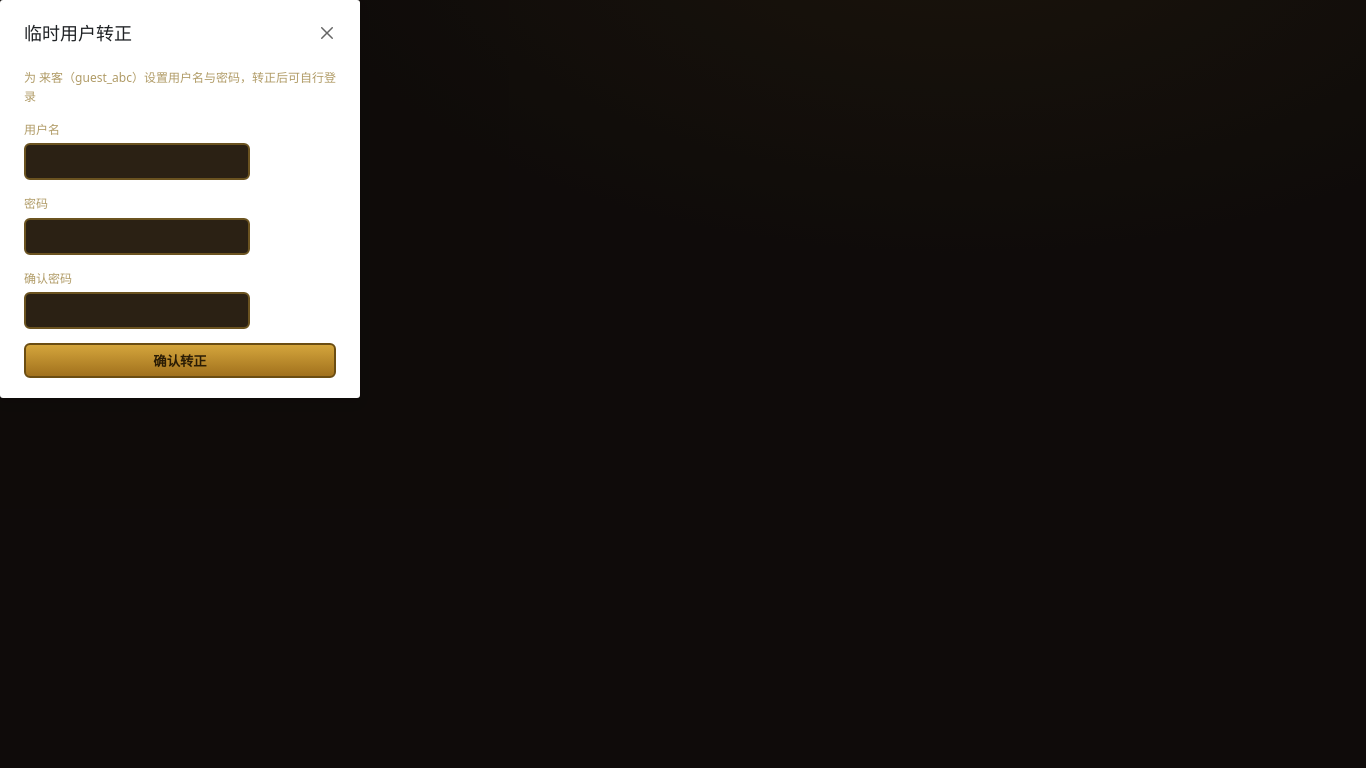
GuestConvertModal › 用户名为空不可提交
The image size is (1366, 768).
Type "abcdef" into the 1st password field at (137, 236), box [24,218,250,254]
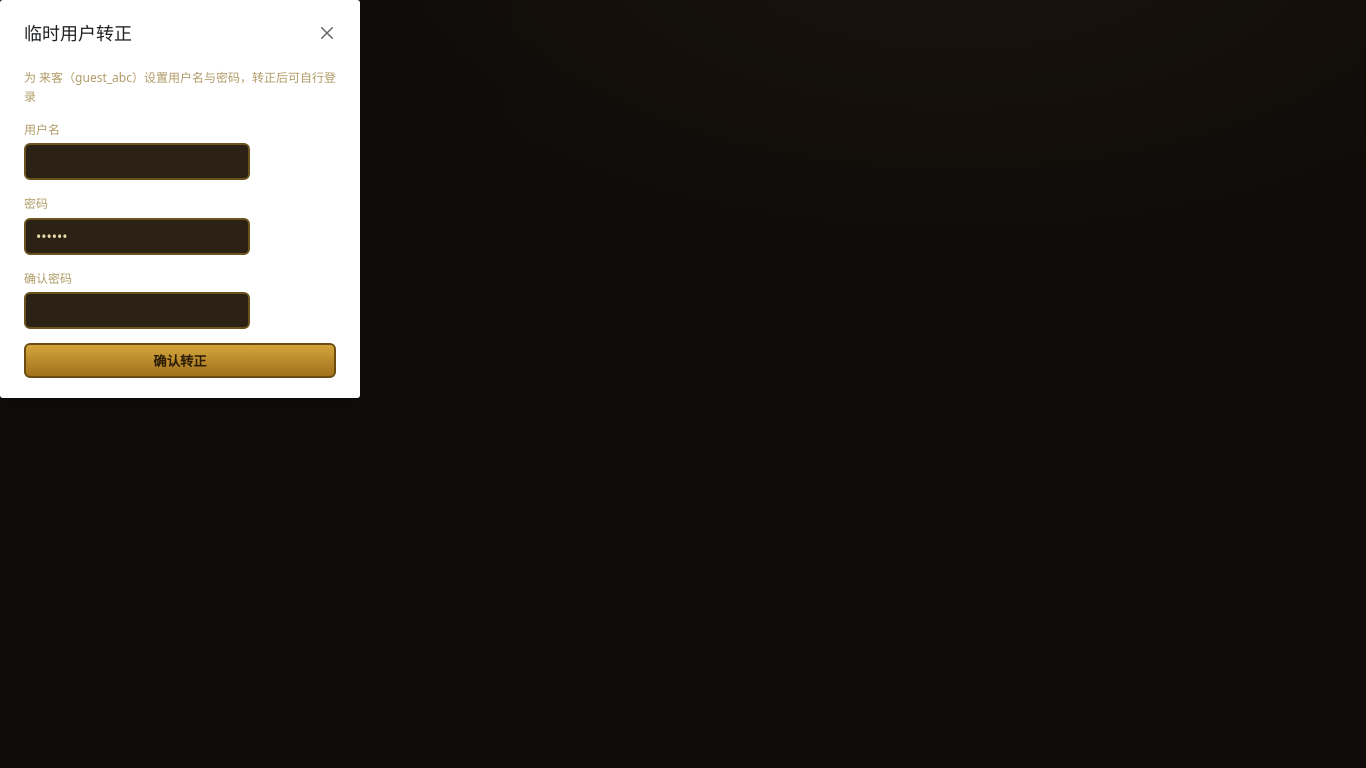
Type "abcdef" into the password field below "确认密码" at (137, 310), box [24,292,250,329]
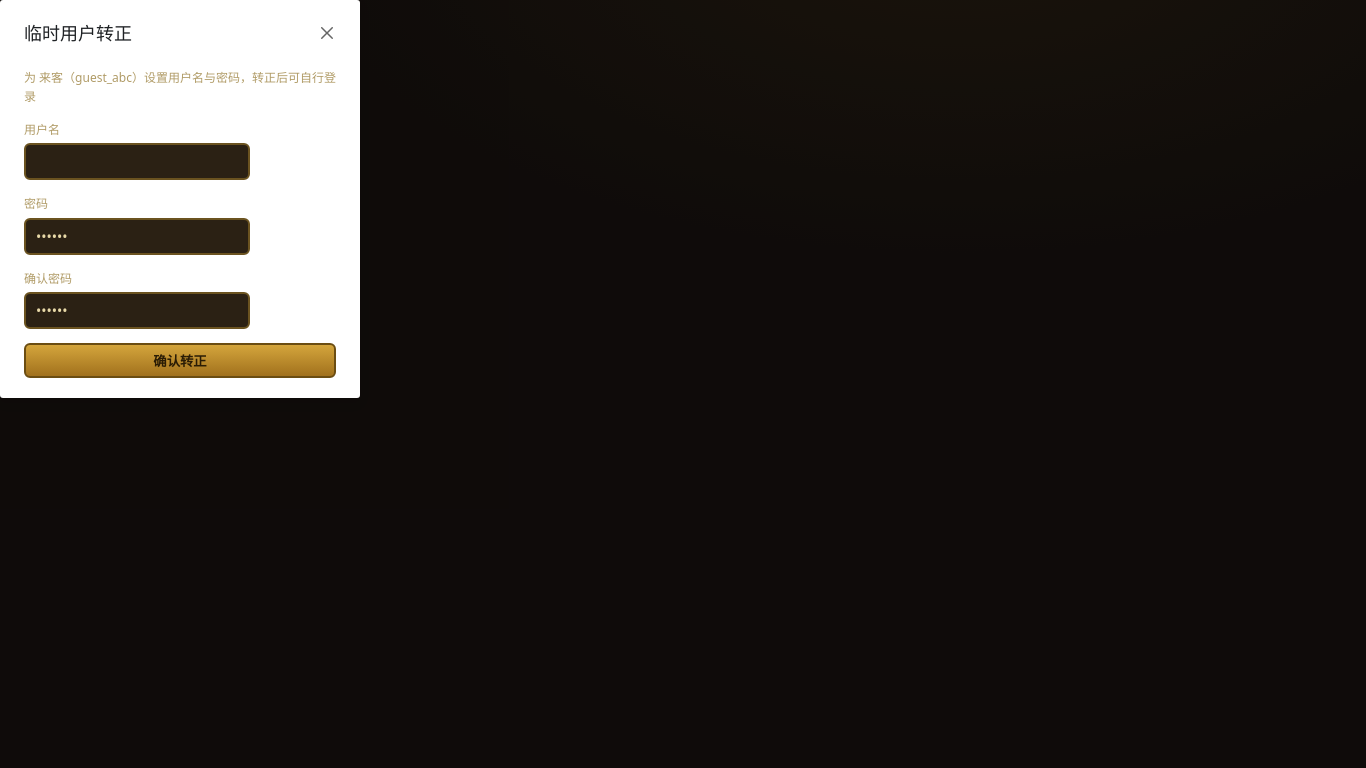
Click the button "确认转正" at (180, 360), box [24,343,336,378]
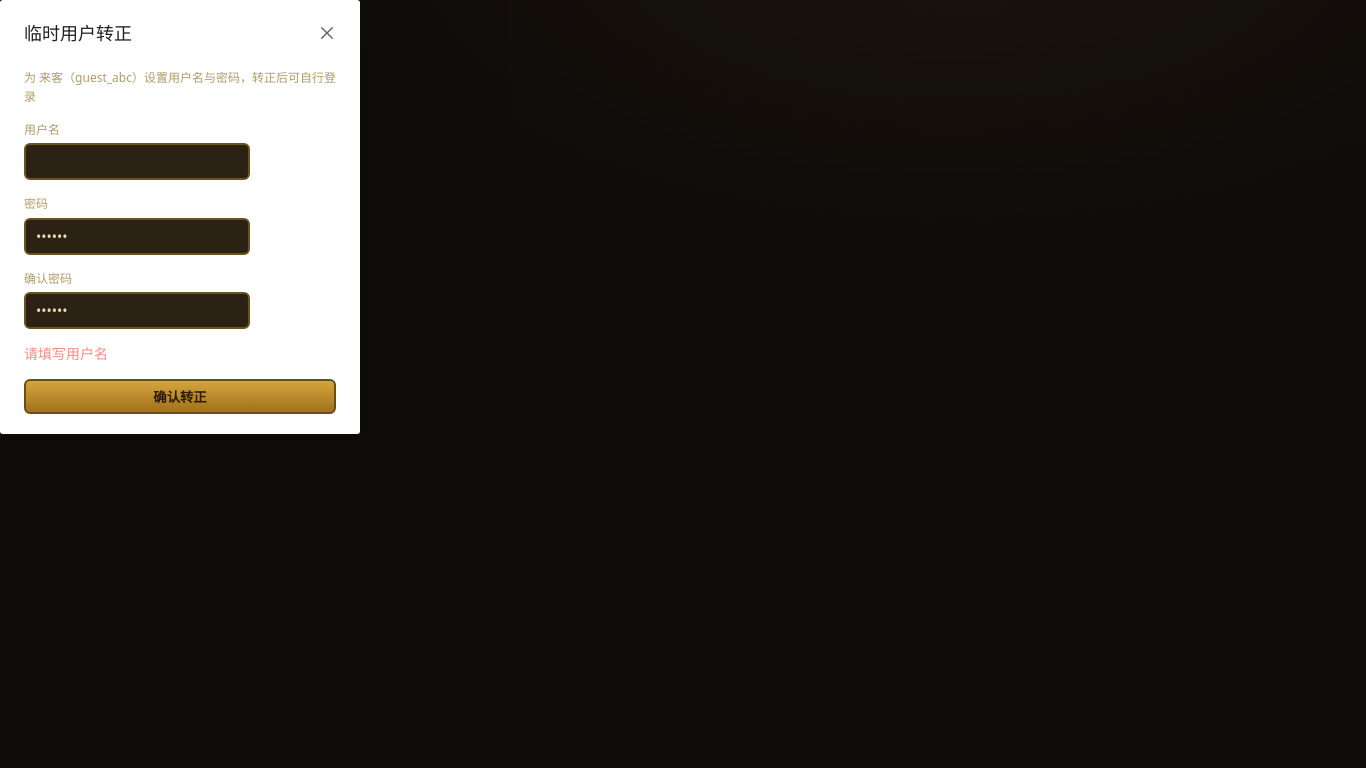
Expected: the text "请填写用户名" is shown, [24,344,108,363]
